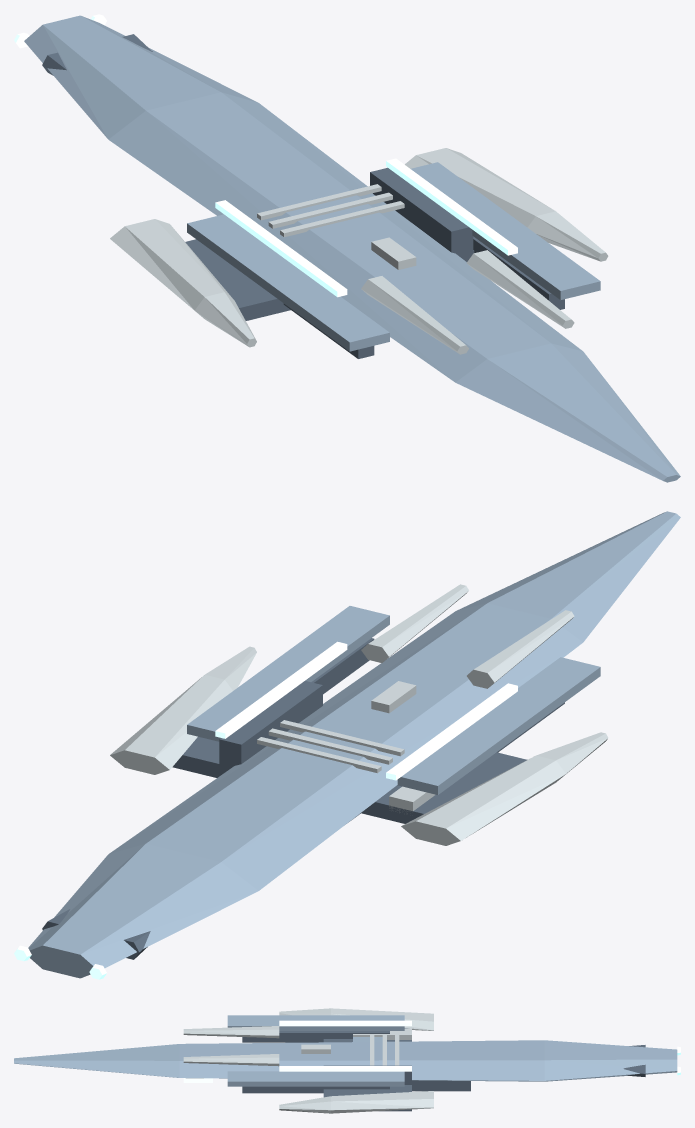
3 renders of one model, top to bottom at view 1: azimuth 30°, elevation 25°; view 2: azimuth 150°, elevation 25°; view 3: azimuth 270°, elevation 25°, orthographic. The views are drawn at different scales.
Size of the model in its own units: 6.96 by 1.37 by 19.91.
